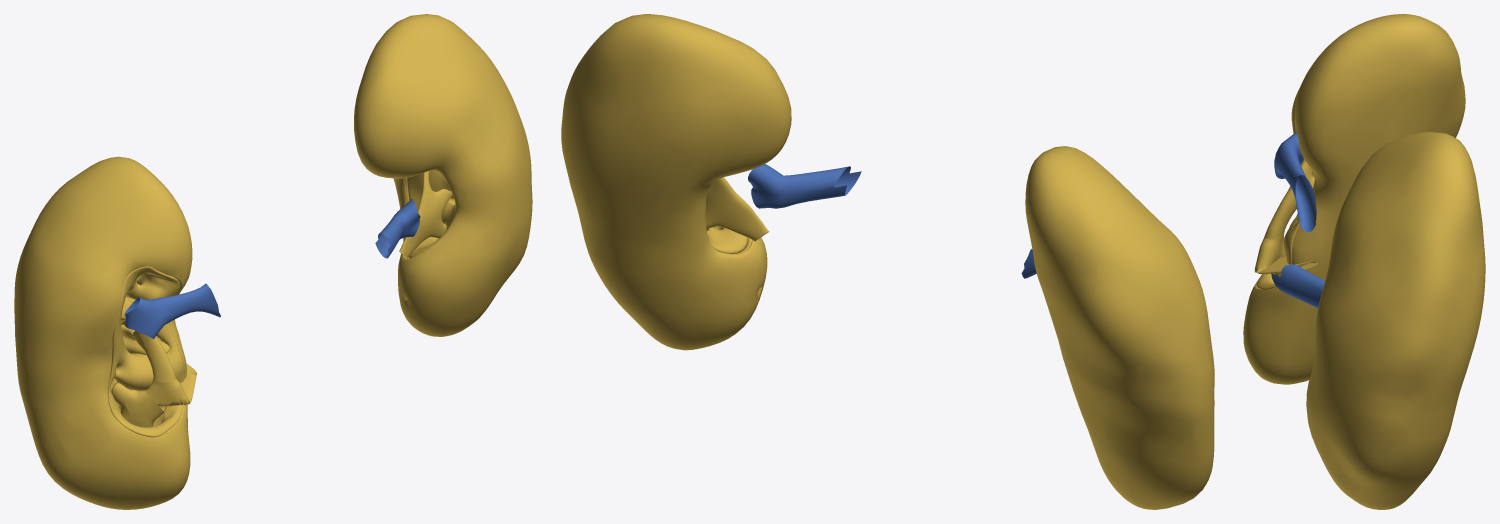
File: kidney.glb
3 views of the same model, side by side, from view 1: azimuth 30°, elevation 25°; view 2: azimuth 150°, elevation 25°; view 3: azimuth 270°, elevation 25° (orthographic). The views are drawn at different scales.
Visible parts, largest first — view 1: Fibrous capsule of kidney.r, Fibrous capsule of kidney.l, Hilum of kidney.r, Renal vein.r, Major calyces.r, Renal vein.l, Renal pelvis.l, Hilum of kidney.l, Renal pelvis.r, Minor calyces.r; view 2: Fibrous capsule of kidney.l, Fibrous capsule of kidney.r, Renal vein.l, Renal pelvis.l, Hilum of kidney.l; view 3: Fibrous capsule of kidney.l, Fibrous capsule of kidney.r, Renal vein.r, Renal vein.l, Renal pelvis.r, Major calyces.r, Hilum of kidney.r, Renal cortex.r.
Part boxes in pixels (x1=…): Fibrous capsule of kidney.r: x1=14, y1=156, x2=191, y2=509; Fibrous capsule of kidney.l: x1=354, y1=14, x2=532, y2=336; Hilum of kidney.r: x1=108, y1=266, x2=184, y2=437; Renal vein.r: x1=124, y1=283, x2=220, y2=338; Major calyces.r: x1=121, y1=296, x2=176, y2=424; Renal vein.l: x1=375, y1=199, x2=420, y2=258; Renal pelvis.l: x1=399, y1=190, x2=442, y2=257; Hilum of kidney.l: x1=407, y1=170, x2=455, y2=258; Renal pelvis.r: x1=145, y1=363, x2=196, y2=405; Minor calyces.r: x1=111, y1=317, x2=152, y2=427; Fibrous capsule of kidney.l: x1=561, y1=14, x2=791, y2=350; Fibrous capsule of kidney.r: x1=1025, y1=146, x2=1214, y2=509; Renal vein.l: x1=748, y1=164, x2=861, y2=208; Renal pelvis.l: x1=706, y1=177, x2=769, y2=241; Hilum of kidney.l: x1=706, y1=226, x2=747, y2=253; Fibrous capsule of kidney.l: x1=1306, y1=132, x2=1485, y2=509; Fibrous capsule of kidney.r: x1=1243, y1=14, x2=1465, y2=384; Renal vein.r: x1=1274, y1=132, x2=1316, y2=232; Renal vein.l: x1=1271, y1=264, x2=1324, y2=307; Renal pelvis.r: x1=1254, y1=234, x2=1318, y2=274; Major calyces.r: x1=1264, y1=159, x2=1313, y2=276; Hilum of kidney.r: x1=1256, y1=124, x2=1315, y2=289; Renal cortex.r: x1=1248, y1=28, x2=1403, y2=366.
Bounding box in the file's own units: 0.1791 × 0.12 × 0.0593.
